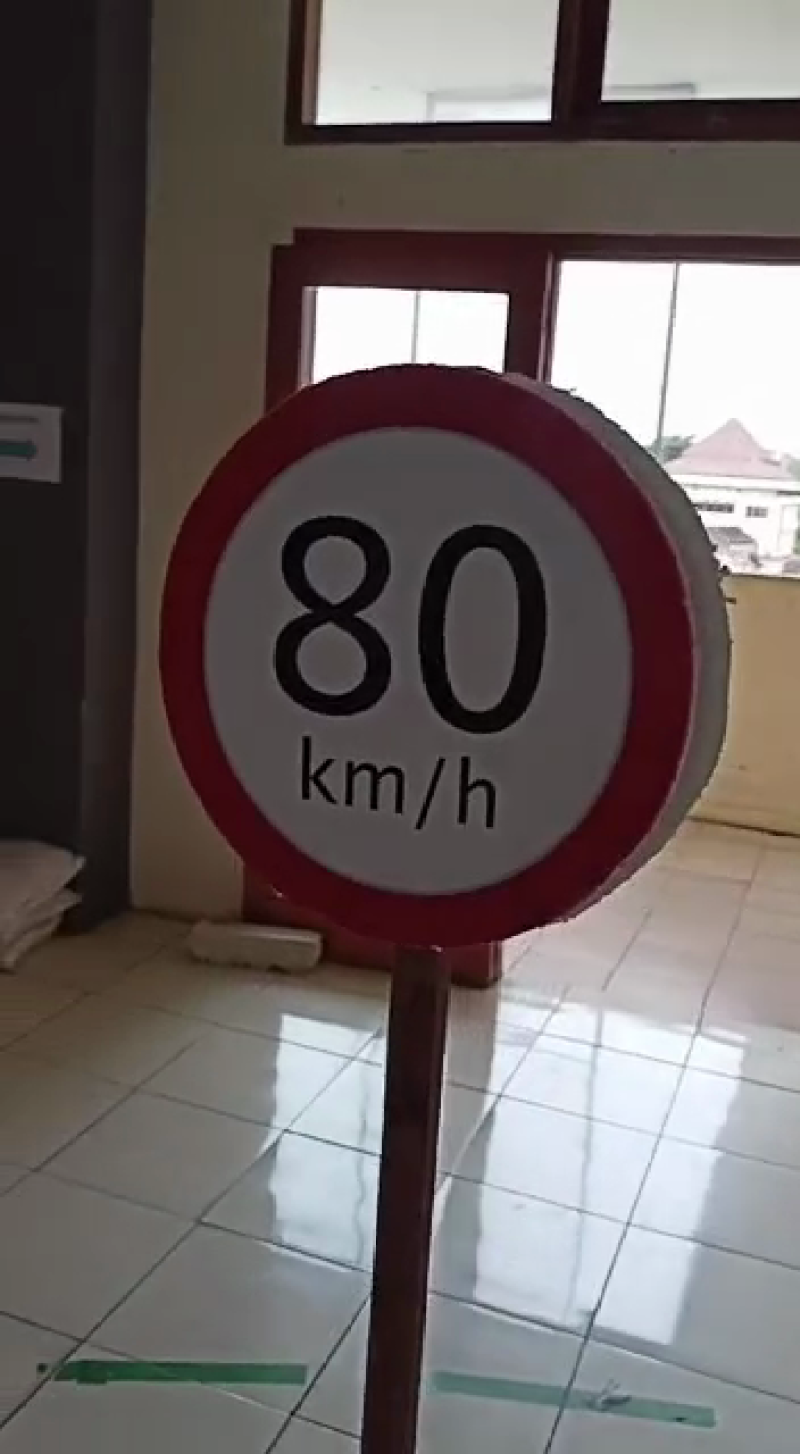batas maksimal 80kmperjam: (156, 358, 711, 957)
